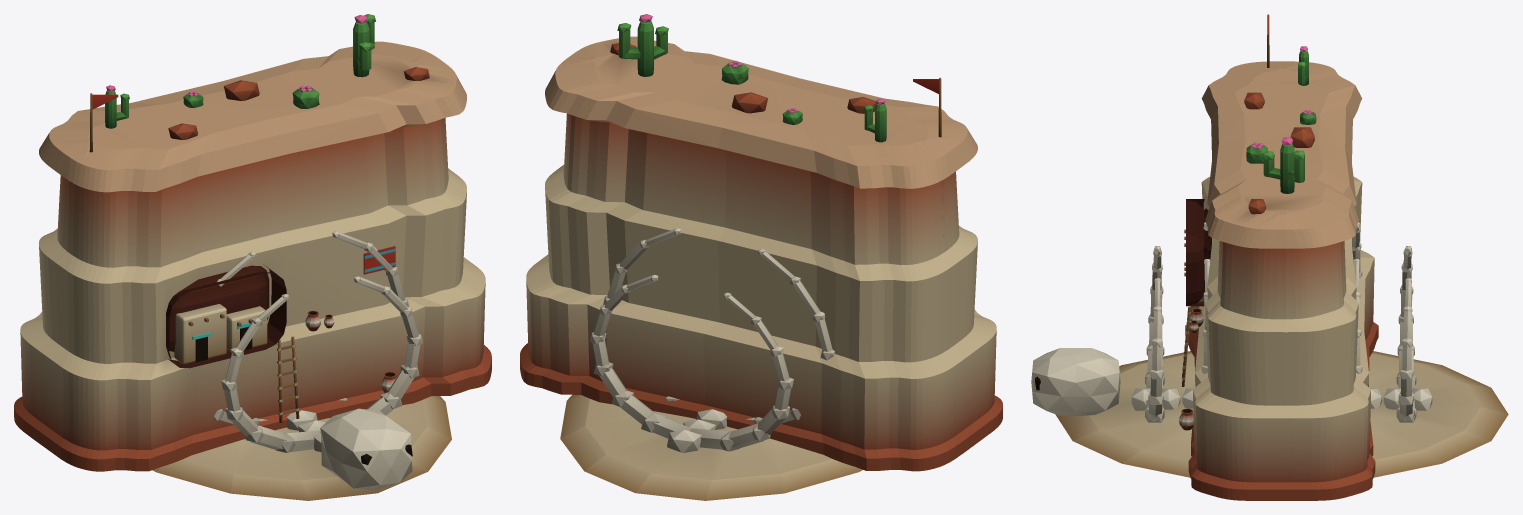
The model's file is canyon-s6-BfGws6I4.glb.
3 renders of one model, left to right at view 1: azimuth 30°, elevation 25°; view 2: azimuth 150°, elevation 25°; view 3: azimuth 270°, elevation 25°, orthographic. The views are drawn at different scales.
Visible parts, largest first — view 1: sc_cliff, sc_ribcage; view 2: sc_cliff, sc_ribcage; view 3: sc_cliff, sc_ribcage.
Part boxes in pixels (<box>): sc_cliff: <box>14,14,491,471</box>; sc_ribcage: <box>152,231,451,500</box>; sc_cliff: <box>520,14,1002,471</box>; sc_ribcage: <box>560,228,862,500</box>; sc_cliff: <box>1179,14,1378,500</box>; sc_ribcage: <box>1031,222,1508,477</box>.
Bounding box in the file's own units: 32.4 × 26.15 × 34.75.
